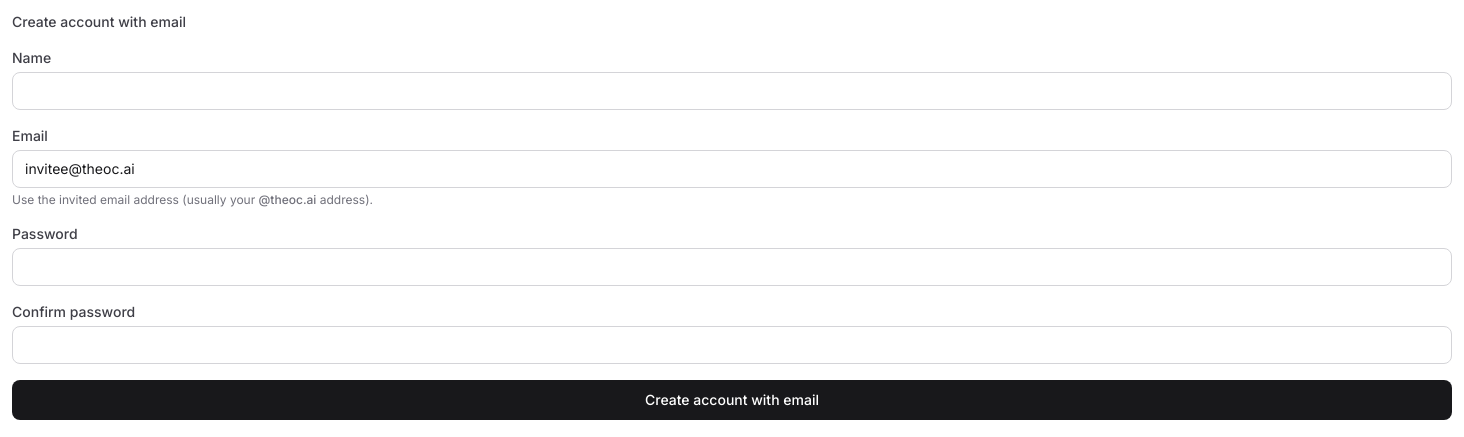
Test: SignupFormInner › confirmation view › shows the confirmation message when state.confirmation is true
Type "Alice" into the field labelled "Name".
click(732, 91); type("Alice")  # box x1=12 y1=72 x2=1452 y2=110
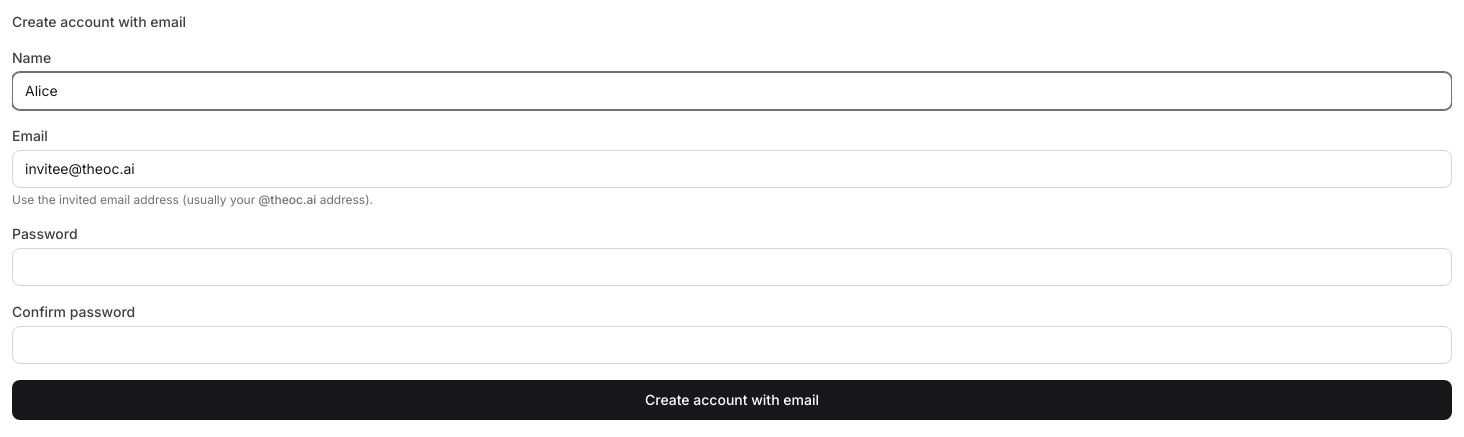
Replace the text in the field labelled "Email" with "alice@example.com" at (732, 169), box x1=12 y1=150 x2=1452 y2=188
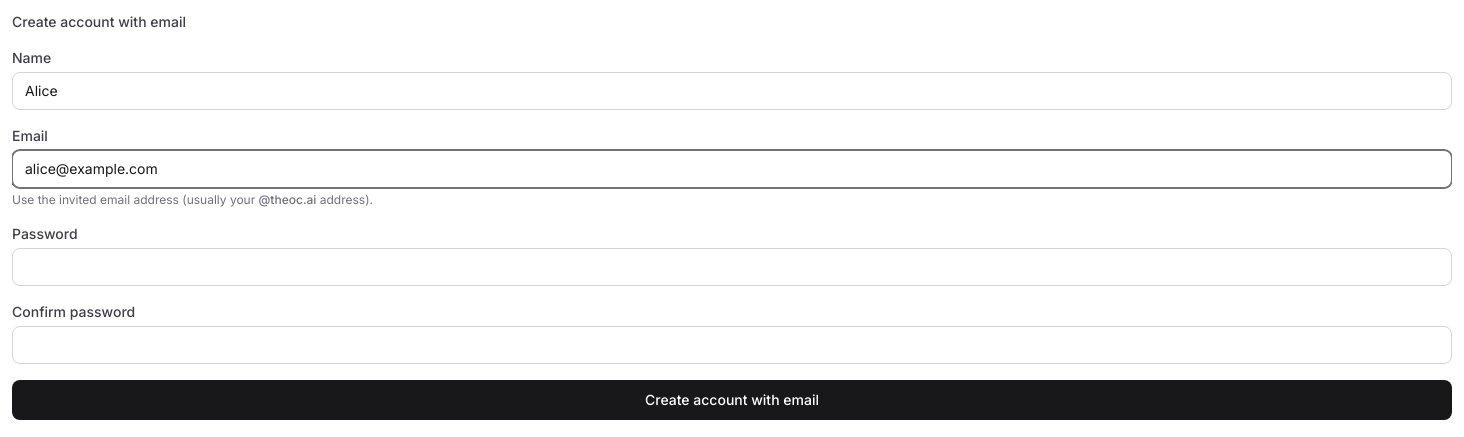
Type "secure123" into the password field labelled "Password".
click(732, 267); type("secure123")  # box x1=12 y1=248 x2=1452 y2=286
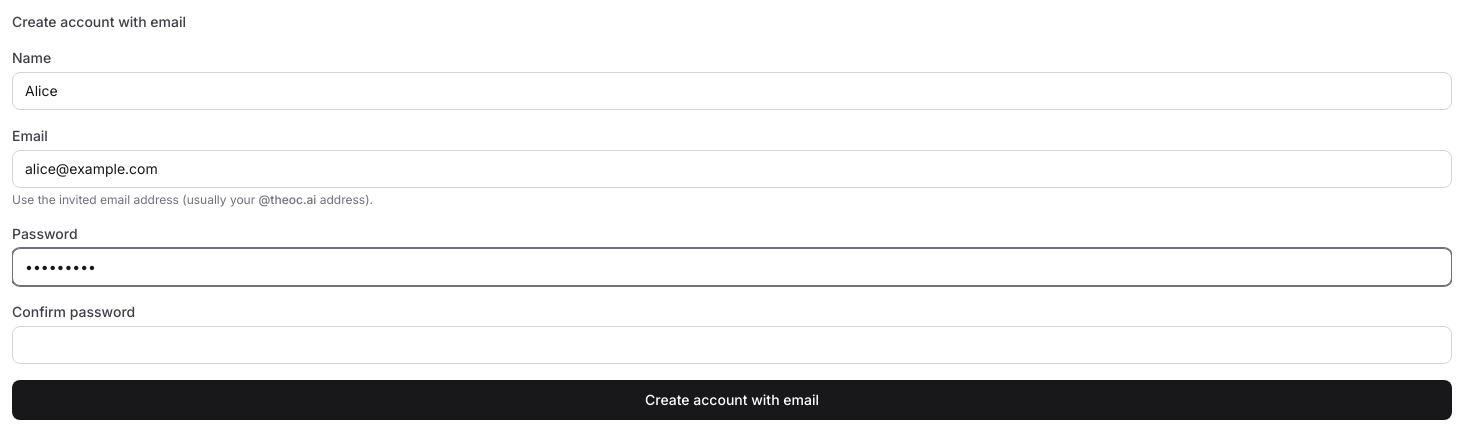
Type "secure123" into the password field labelled "Confirm password".
click(732, 345); type("secure123")  # box x1=12 y1=326 x2=1452 y2=364
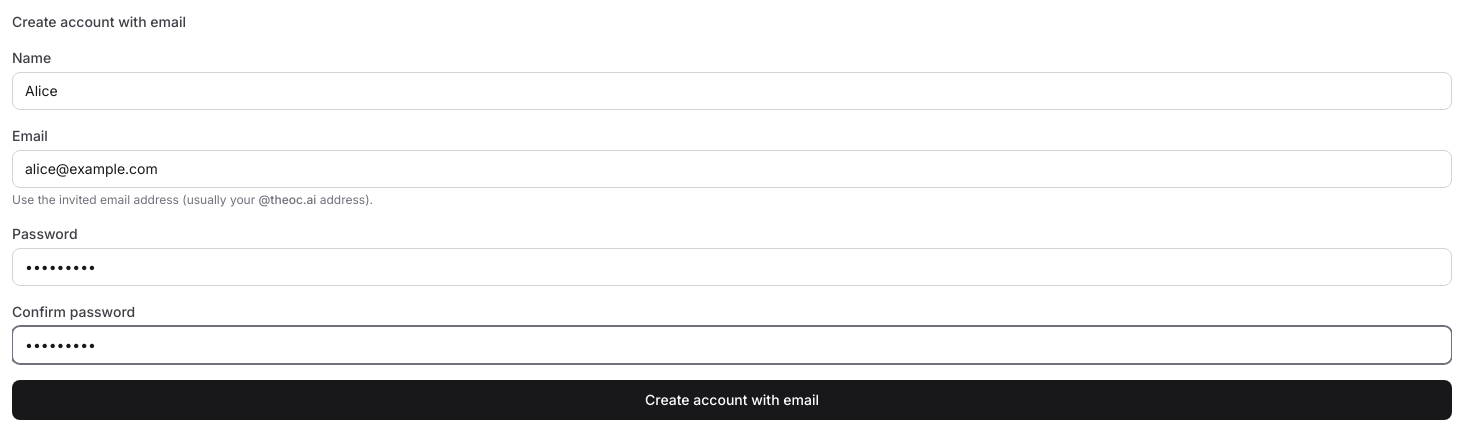
Click the button "Create account with email".
click(732, 400)  # box x1=12 y1=380 x2=1452 y2=420
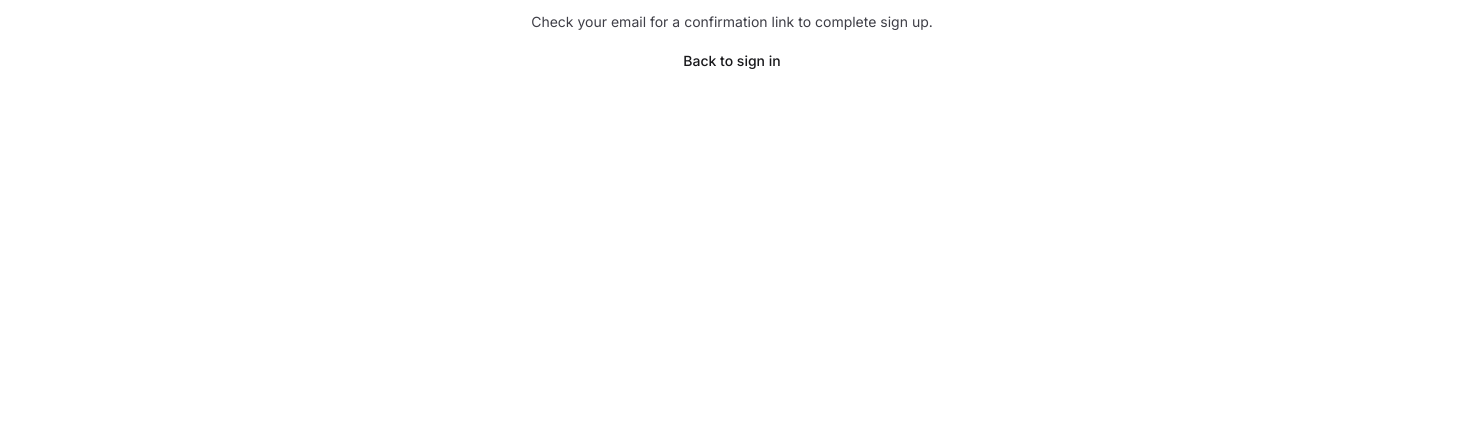
Now the text "Check your email for a confirmation link" is shown, box x1=531 y1=13 x2=933 y2=30
